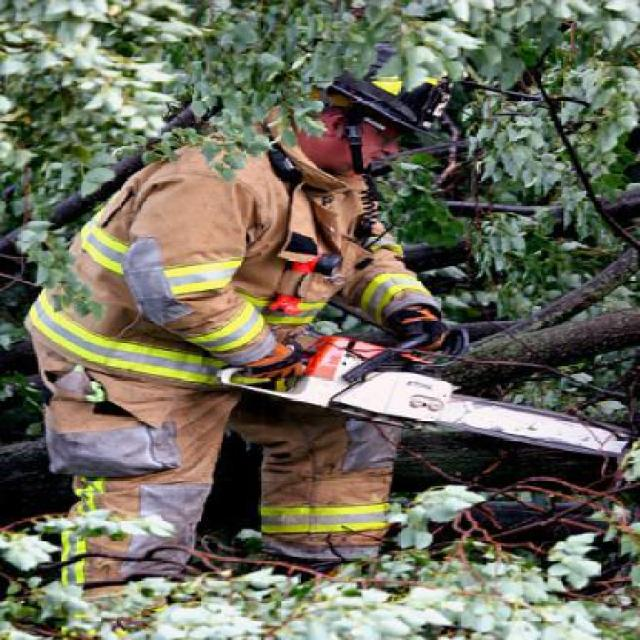Chainsaw: (217, 323, 629, 466)
